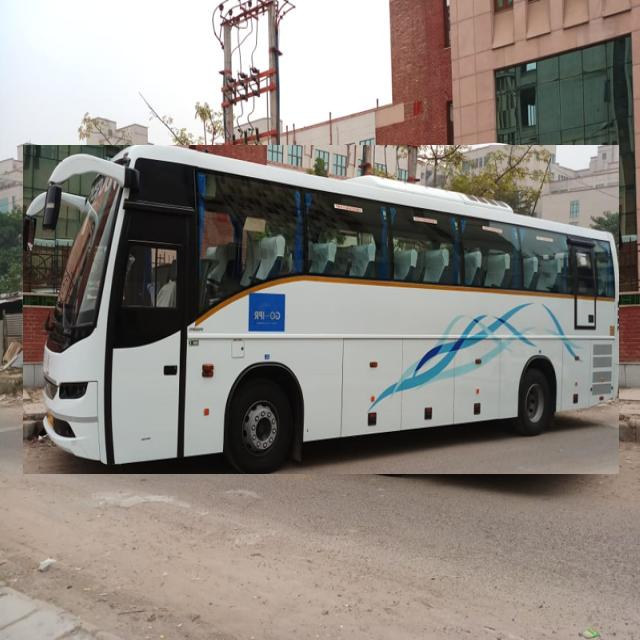bus: (24, 145, 619, 474)
